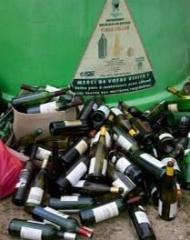glass: (3, 82, 190, 240)
